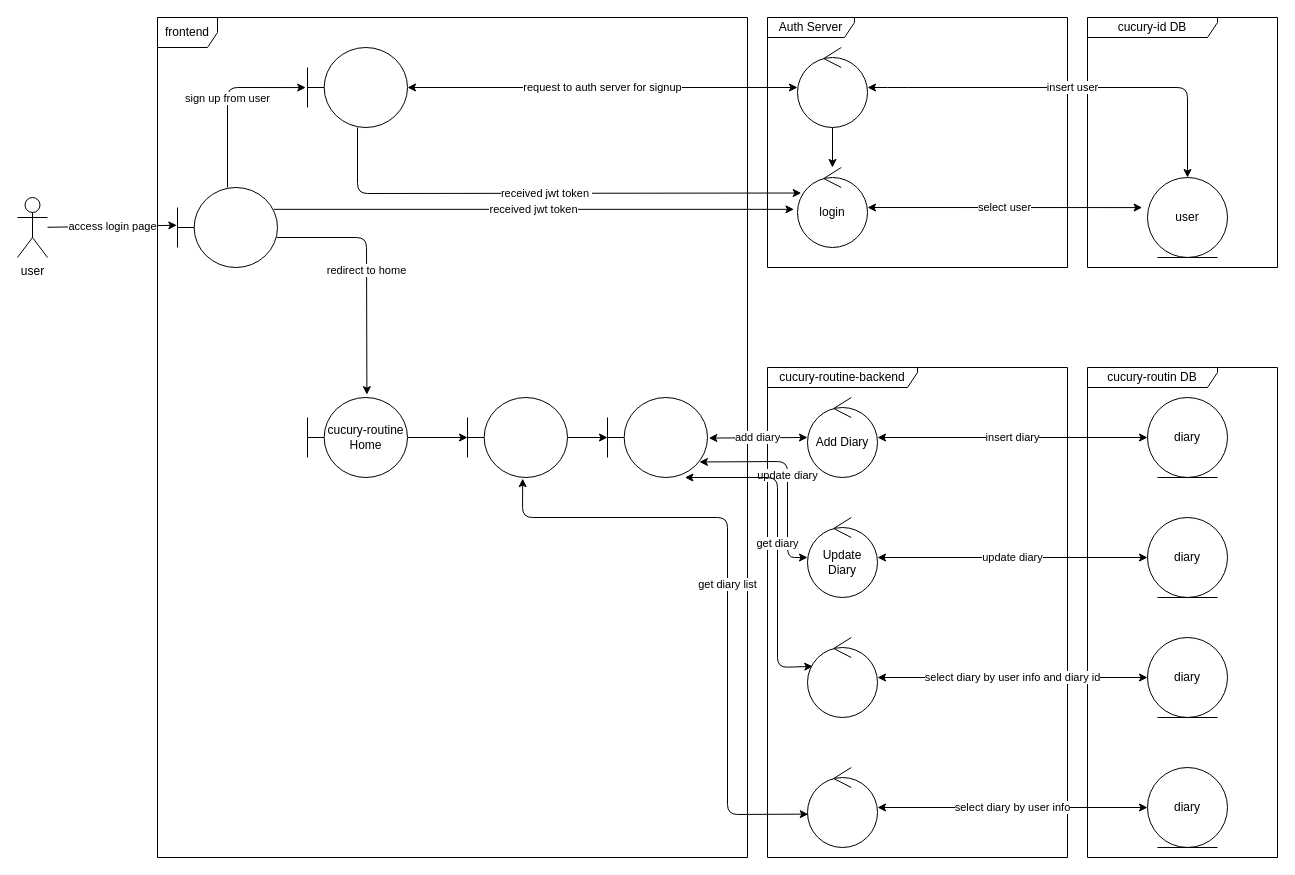
The diagram is 1295 pixels wide and 875 high, and some of its shapes have lost their labels. Each missing label, with the centre of its shape:
"Diary Detail Page" goes at point (657, 437).
"Diary Page" goes at point (517, 437).
"Get All Diary" goes at point (842, 807).
"Get Diary By Id" goes at point (842, 677).
"Login Page" goes at point (227, 227).
"signup" goes at point (832, 87).
"Signup Page" goes at point (357, 87).
